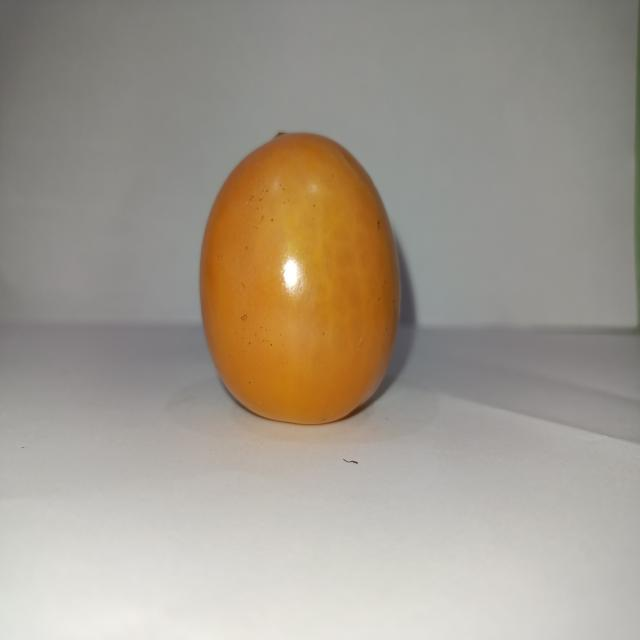Red: (197, 129, 401, 425)
